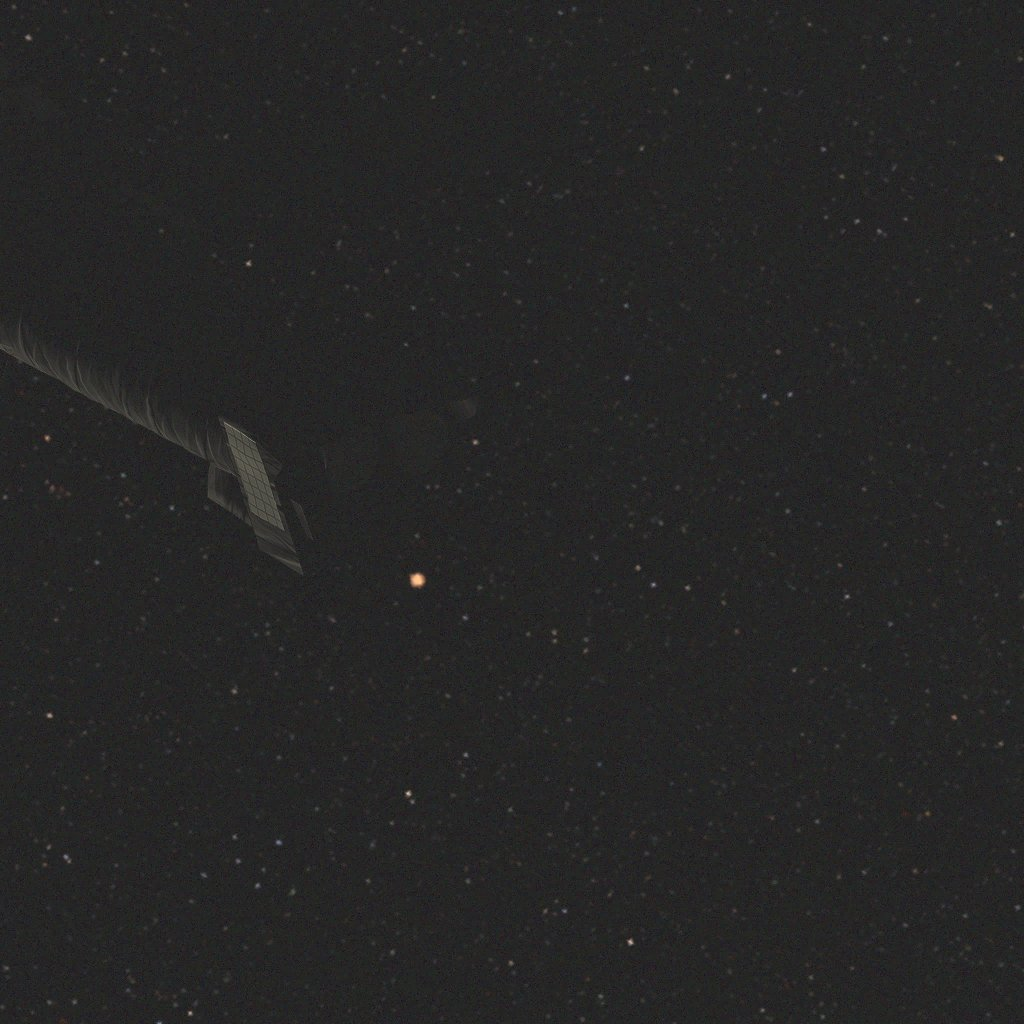xmm_newton: (0, 45, 587, 575)
